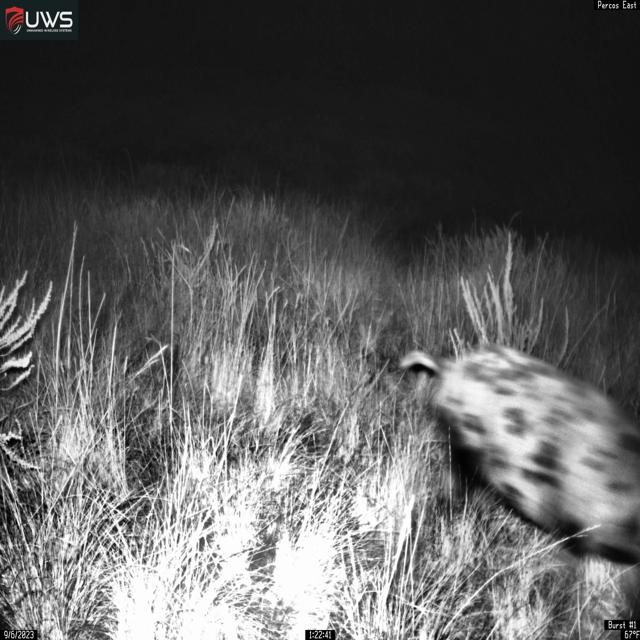pig: (398, 341, 640, 606)
